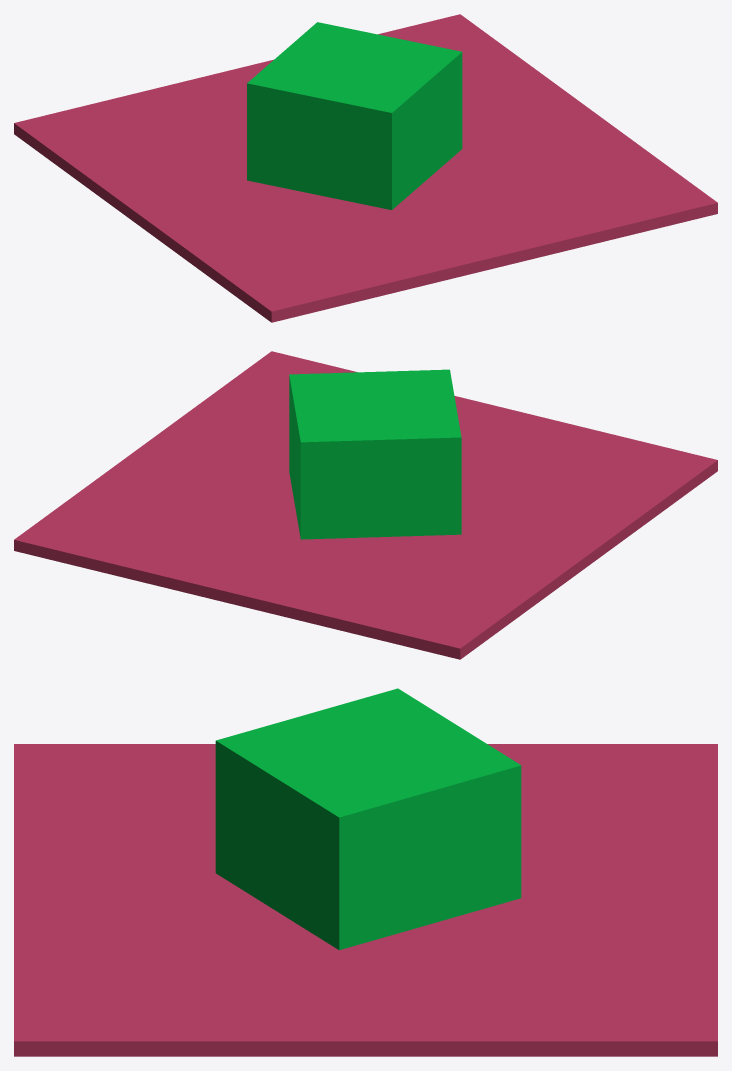
Rendered from Test_LightCamera.dae.
3 views of the same model, one above another, from view 1: azimuth 30°, elevation 25°; view 2: azimuth 150°, elevation 25°; view 3: azimuth 270°, elevation 25° (orthographic). The views are drawn at different scales.
Visible parts, largest first — view 1: Cube, Cube_005; view 2: Cube, Cube_005; view 3: Cube, Cube_005.
Boxes of the visible parts, bbox=[...] form: Cube: bbox=[14, 14, 717, 322]; Cube_005: bbox=[247, 22, 462, 209]; Cube: bbox=[14, 351, 717, 659]; Cube_005: bbox=[289, 369, 461, 539]; Cube: bbox=[14, 744, 717, 1056]; Cube_005: bbox=[215, 688, 521, 950].
Size of the model in its own units: 16.73 by 16.73 by 5.23.
